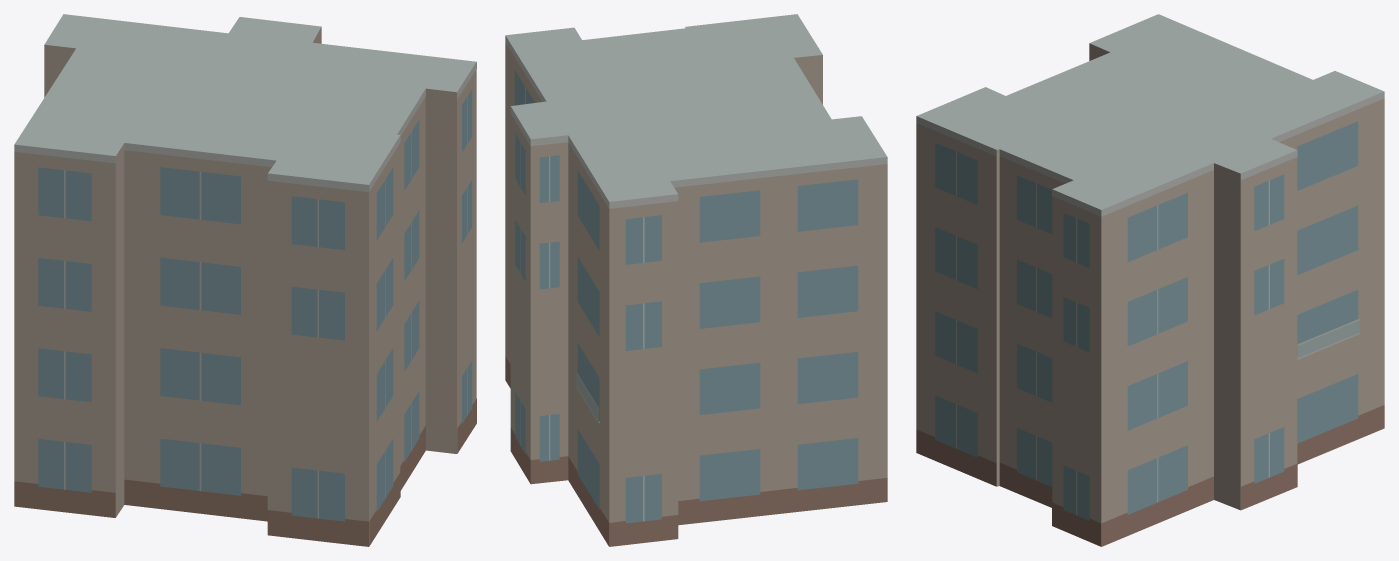
Rendered from survey-upis-32700884.glb.
3 renders of one model, left to right at view 1: azimuth 30°, elevation 25°; view 2: azimuth 150°, elevation 25°; view 3: azimuth 270°, elevation 25°, orthographic. The views are drawn at different scales.
Parts seen in each view (by area): view 1: survey-upis-32700884.tmp; view 2: survey-upis-32700884.tmp; view 3: survey-upis-32700884.tmp.
Part boxes in pixels (x1,y1,x2,y2): survey-upis-32700884.tmp: (14, 14, 476, 546); survey-upis-32700884.tmp: (505, 14, 887, 546); survey-upis-32700884.tmp: (916, 14, 1384, 546).
Size of the model in its own units: 15.18 by 12.15 by 15.31.
